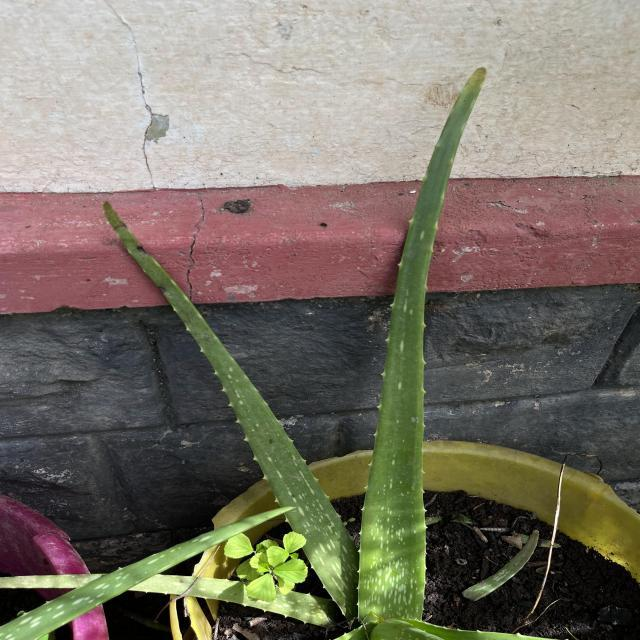Aloe vera: (352, 62, 492, 628)
